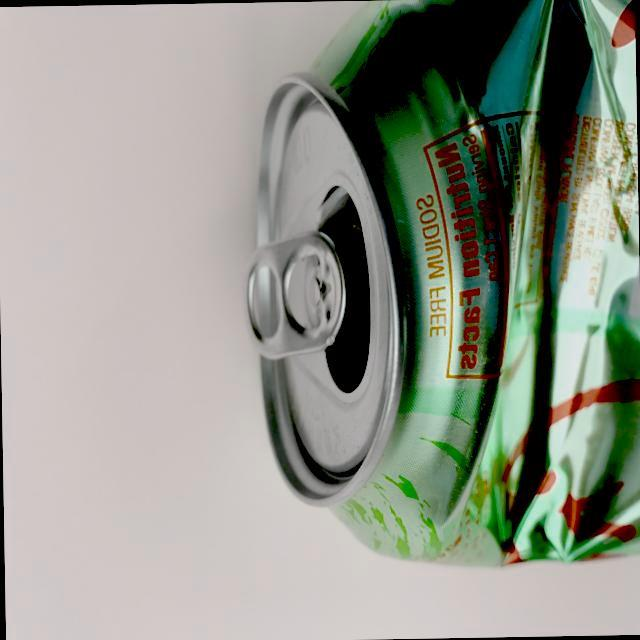metal: (223, 4, 640, 591)
